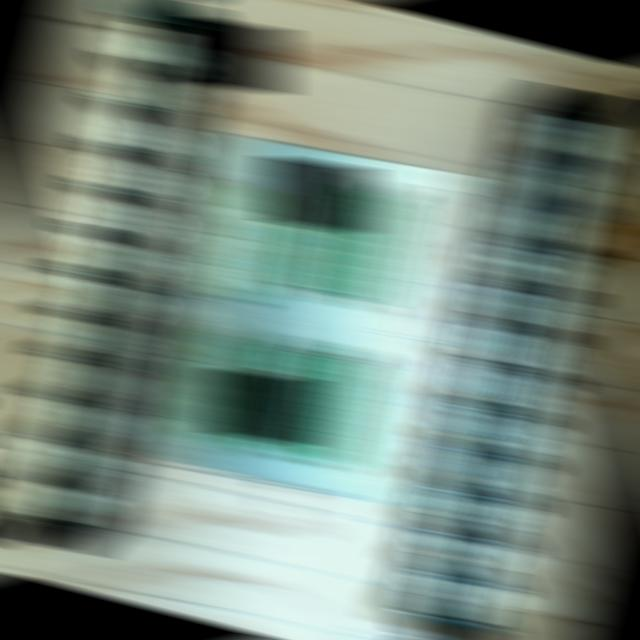Flathead_Block: (1, 0, 210, 557)
Phillips_Block: (406, 76, 637, 640)
Terminal_1: (177, 325, 248, 453), (208, 180, 280, 306)
Terminal_2: (317, 179, 386, 302), (246, 340, 314, 462), (284, 175, 352, 297), (314, 352, 382, 472), (280, 347, 347, 467)
